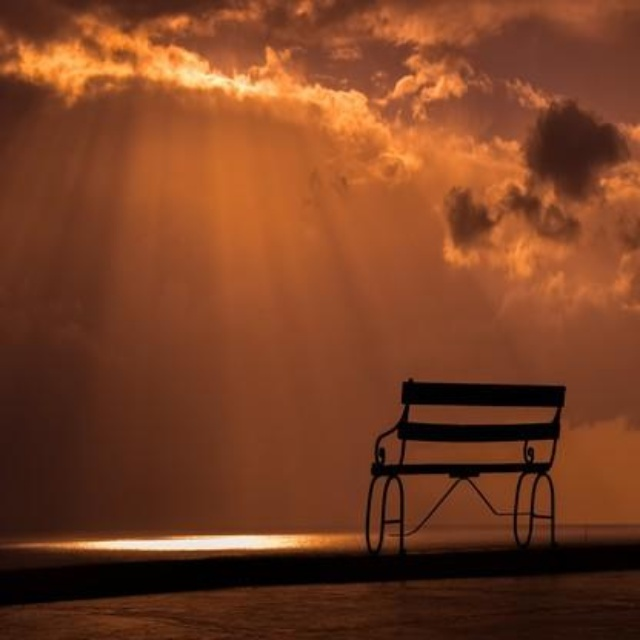obstacle: (377, 355, 600, 569)
